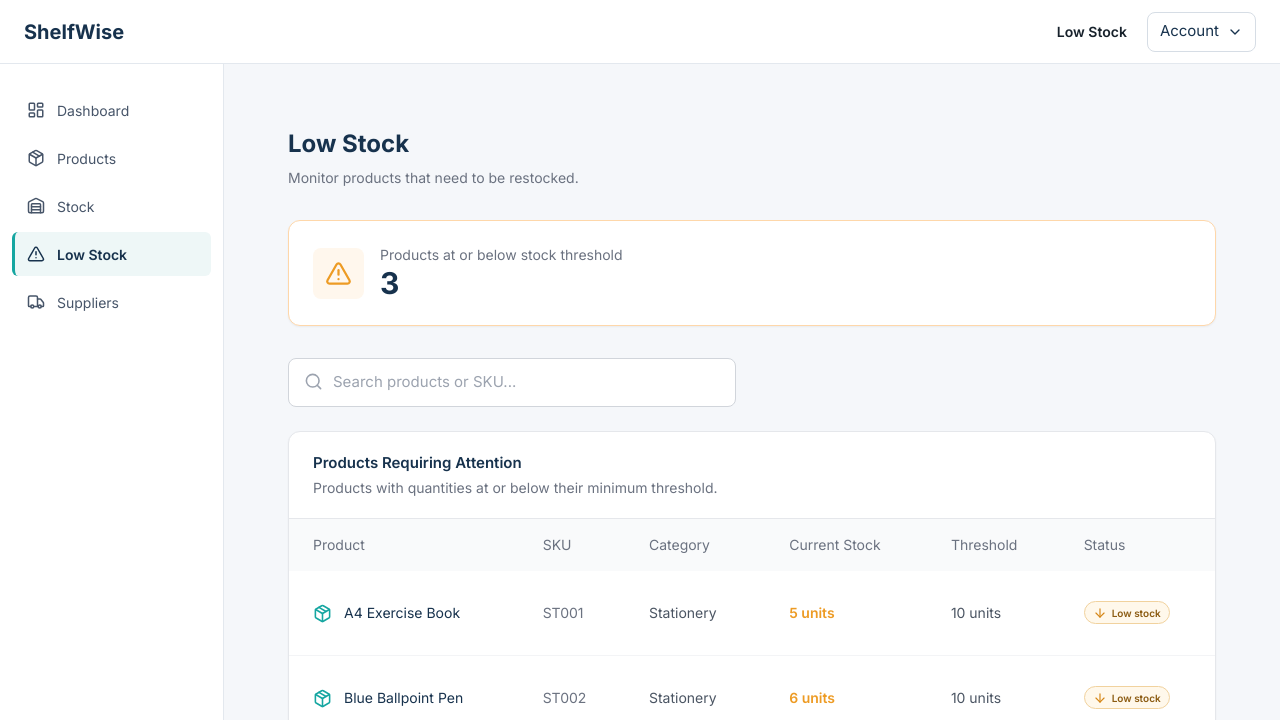
Test: LowStock page › searches the loaded rows by name and SKU and reports no matches
Check: the link "A4 Exercise Book" is shown, box [313,604,460,622]
Type "Blue Ballpoint" into the search field with placeholder "Search products or SKU..." at (512, 382), box [288,358,736,406]
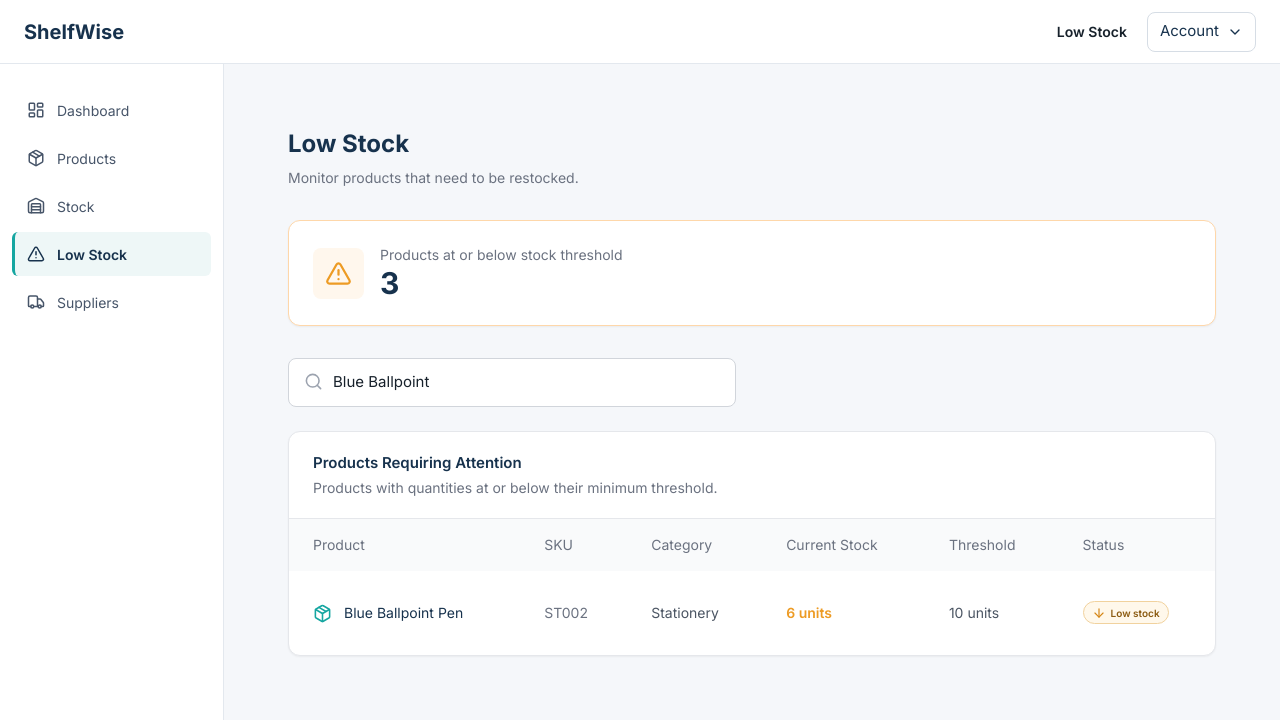
Check: the link "Blue Ballpoint Pen" is shown, box [313,604,463,622]
Check: the link "A4 Exercise Book" is gone
Replace the text in the search field with placeholder "Search products or SKU..." with "EL001" at (512, 382), box [288,358,736,406]
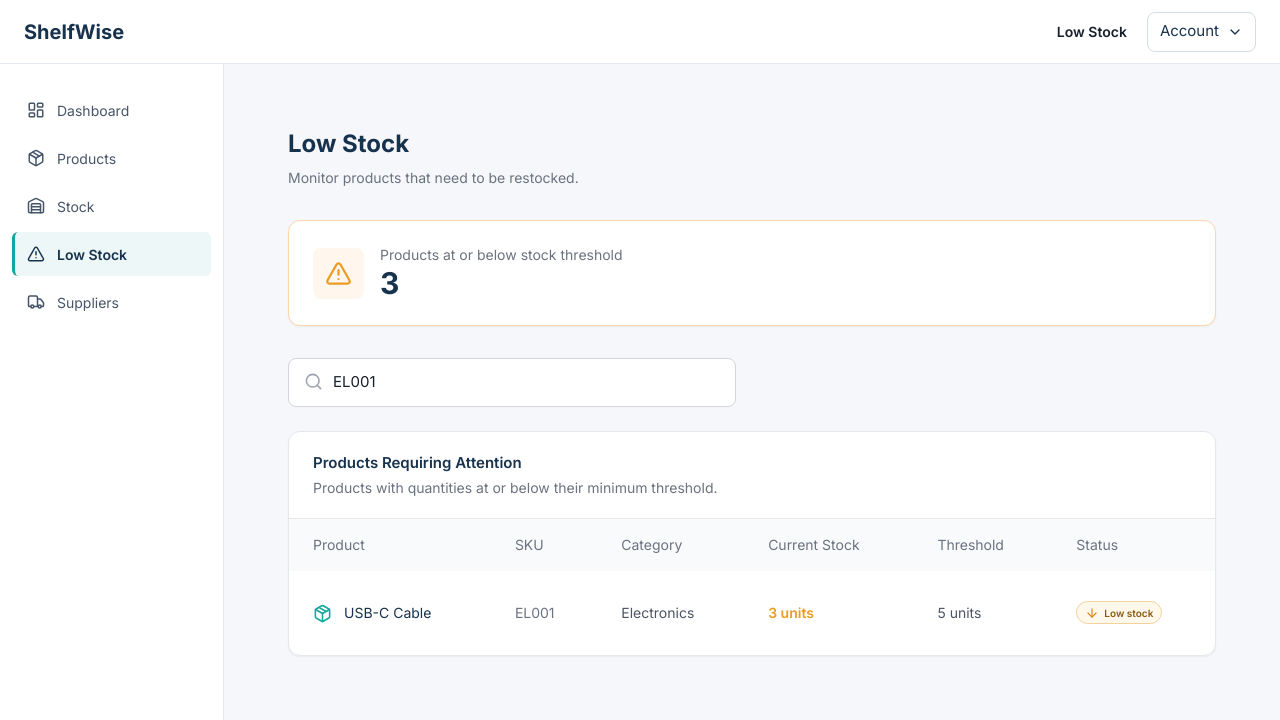
Check: the link "USB-C Cable" is shown, box [313,604,431,622]
Check: the link "Blue Ballpoint Pen" is gone
Replace the text in the search field with placeholder "Search products or SKU..." with "missing" at (512, 382), box [288,358,736,406]
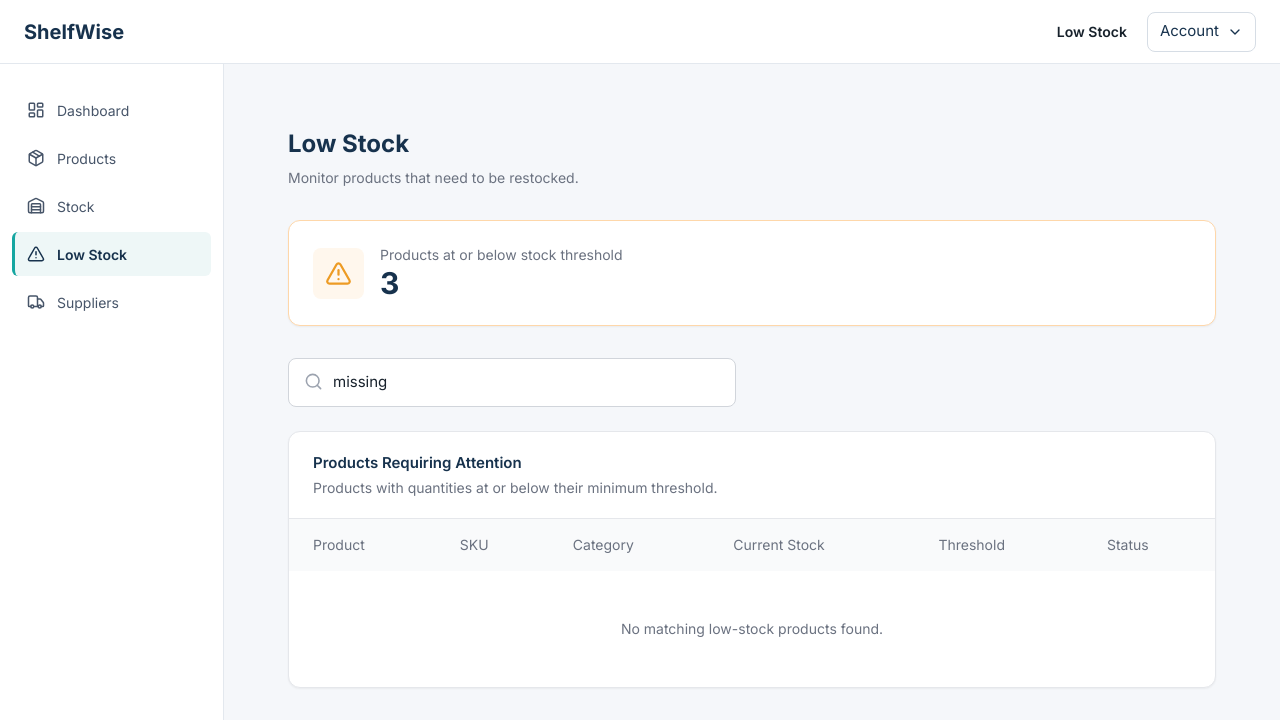
Check: the text "No matching low-stock products found." is shown, box [289,571,1215,687]
